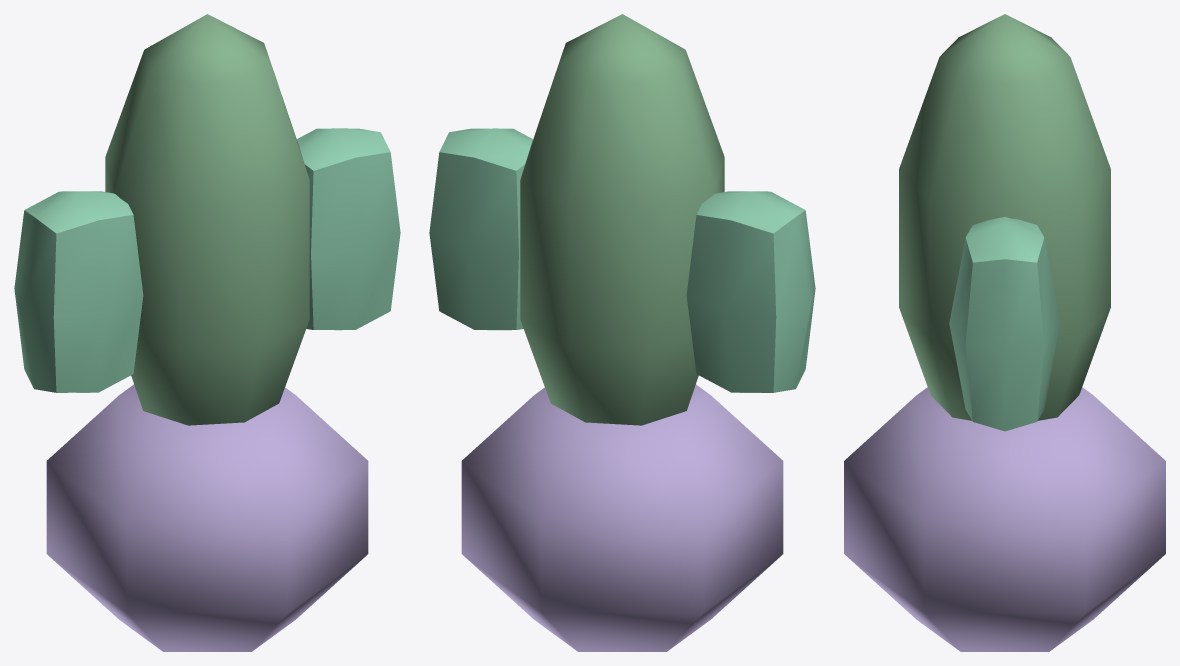
Rendered from desk-cactus.glb.
3 views of the same model, side by side, from view 1: azimuth 30°, elevation 25°; view 2: azimuth 150°, elevation 25°; view 3: azimuth 270°, elevation 25° (orthographic).
Visible parts, largest first — view 1: part (×3), detail; view 2: part (×3), detail; view 3: part (×2), detail.
Boxes of the visible parts, bbox=[...] form: part (×3): bbox=[14, 128, 400, 651]; detail: bbox=[105, 14, 309, 425]; part (×3): bbox=[429, 128, 815, 651]; detail: bbox=[520, 14, 724, 425]; part (×2): bbox=[844, 216, 1165, 651]; detail: bbox=[899, 14, 1110, 420].
Bounding box in the file's own units: 0.175 × 0.27 × 0.13.
1 material, 1 textured.
